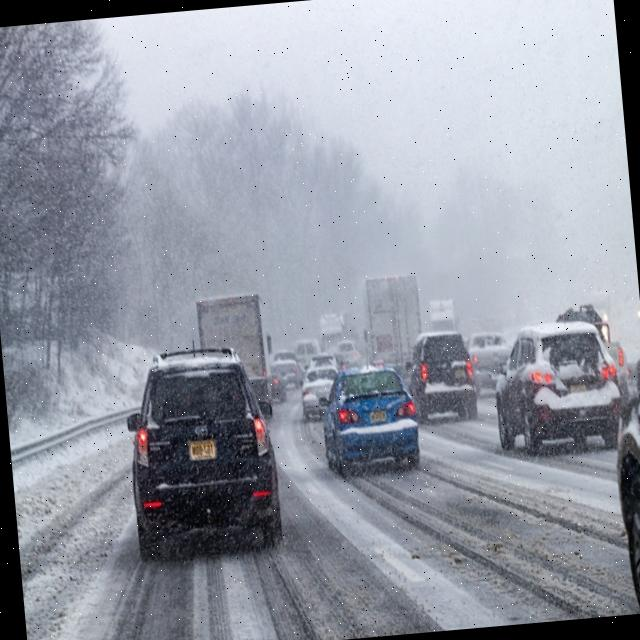bus: (196, 296, 277, 418), (358, 274, 426, 386), (320, 309, 348, 362), (427, 300, 457, 338)
car: (114, 334, 288, 567), (490, 319, 628, 460), (318, 361, 424, 478), (602, 336, 640, 607), (404, 327, 481, 428), (466, 331, 514, 386), (298, 368, 340, 421), (296, 336, 324, 374), (334, 336, 362, 369), (268, 364, 286, 399), (277, 350, 298, 374)
